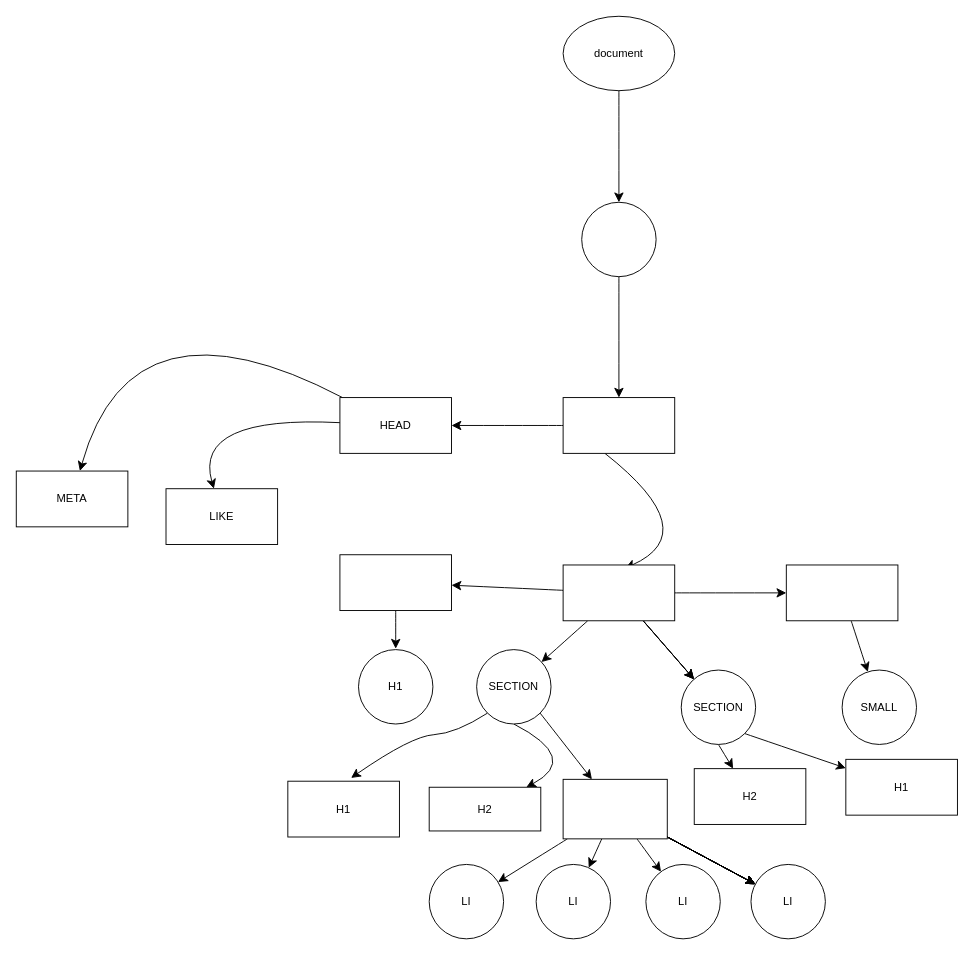
This 974x955 diagram has some shape labels left out. The shapes that lost their labels are listed below. From the top down, each one's box as (x1, y1, x2, y2) in pixels, then its label:
(581, 201, 656, 277): HTML
(562, 397, 675, 453): BODY
(339, 554, 452, 611): HEADER
(562, 564, 675, 621): MAIN
(785, 564, 898, 621): FOOTER
(562, 778, 667, 839): UL
